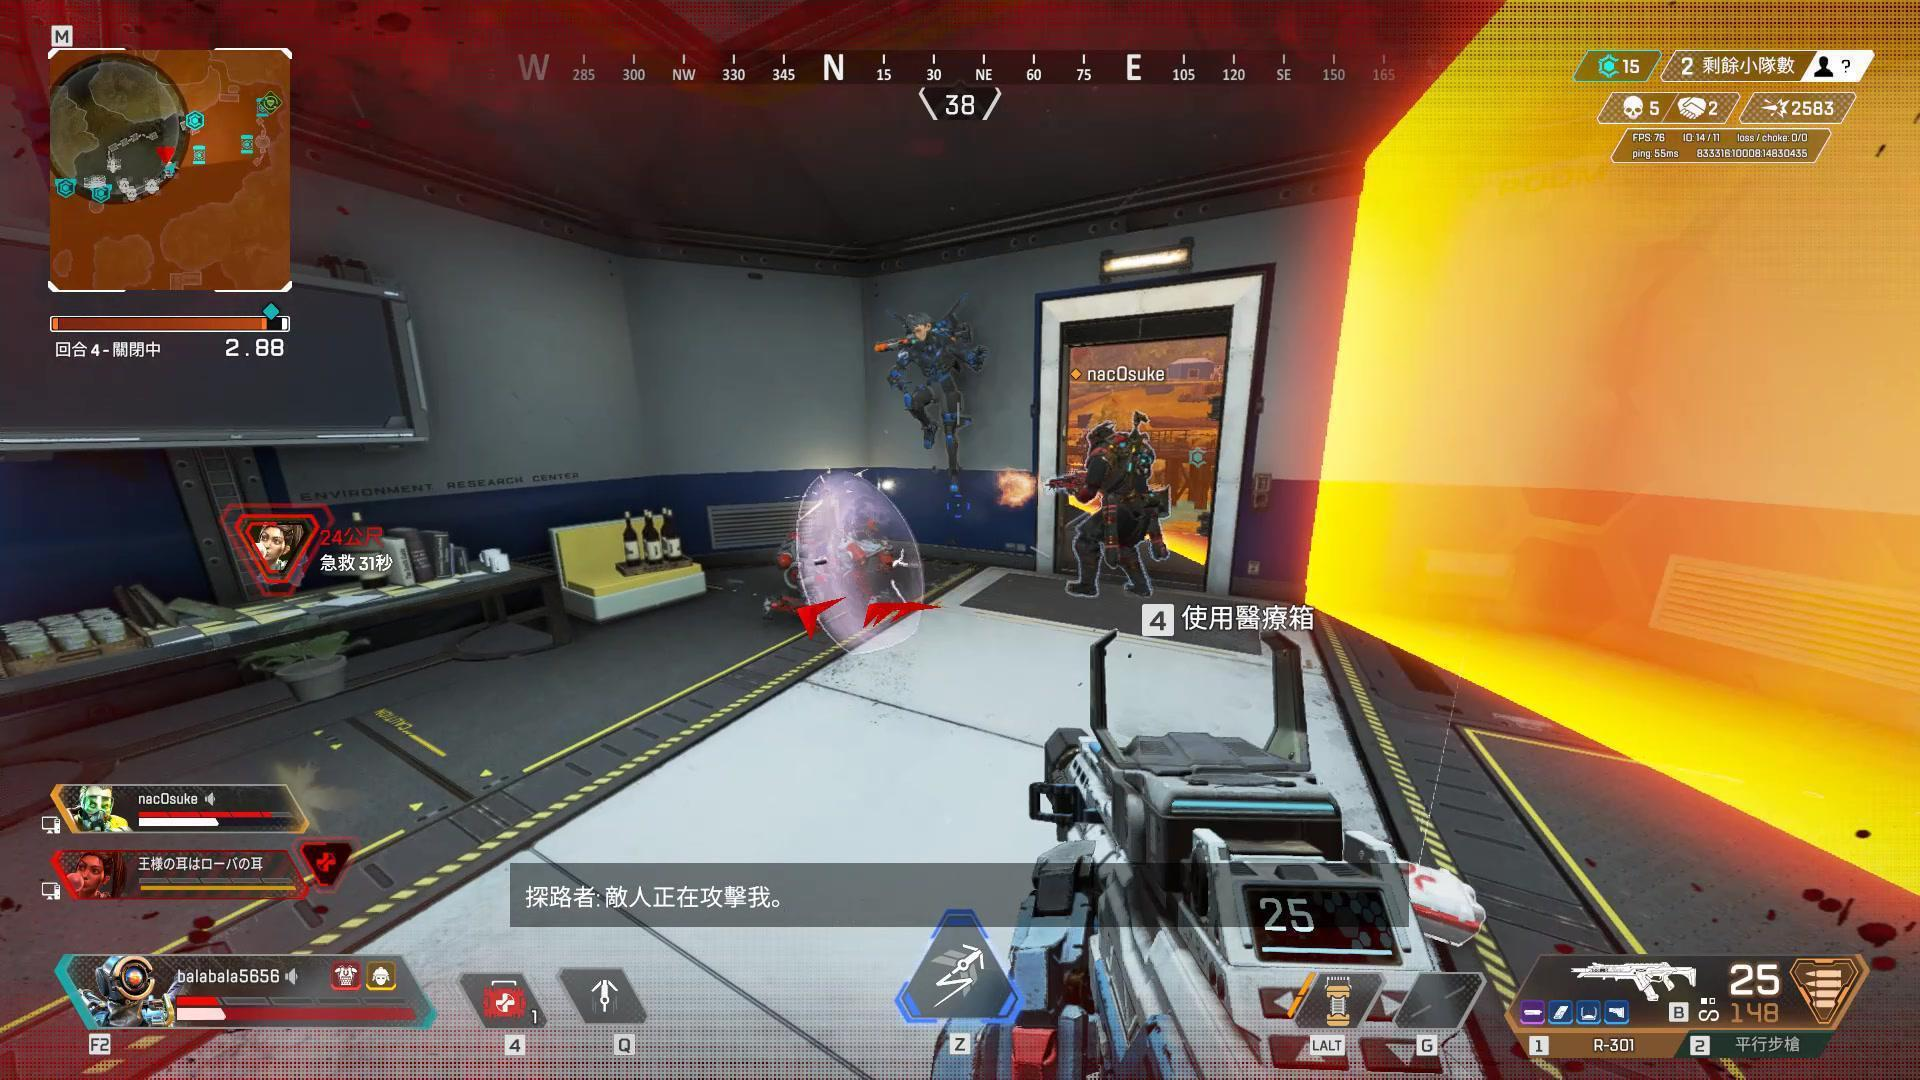avatar: (883, 302, 990, 499), (1069, 423, 1170, 602)
